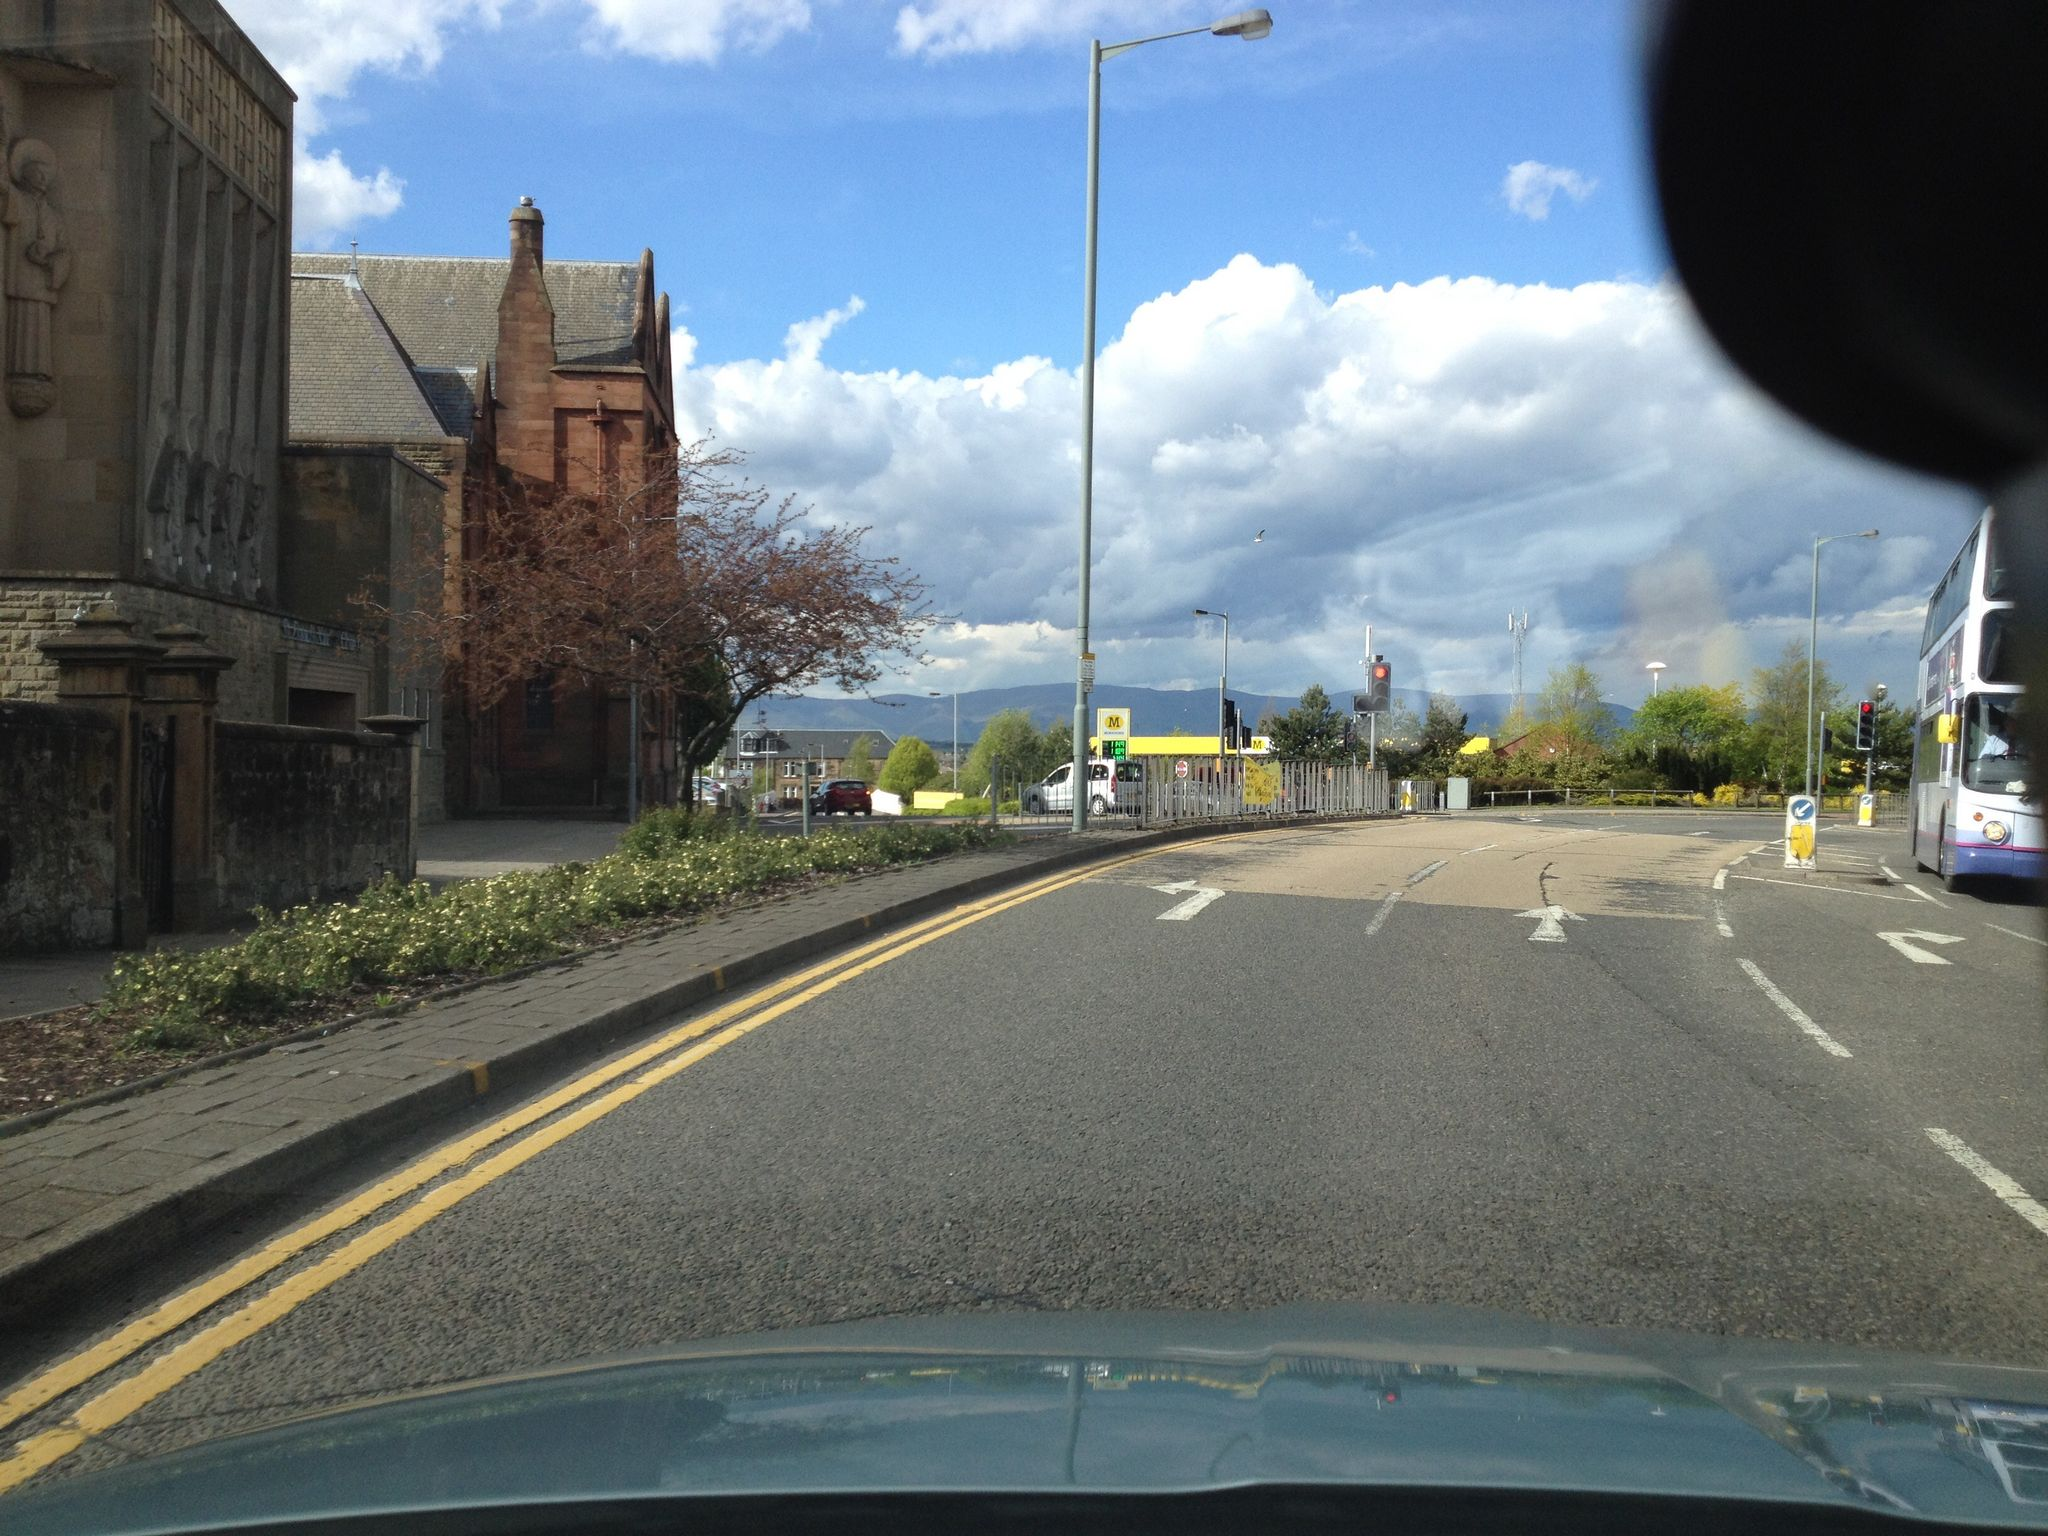bus: (1913, 505, 2046, 887)
car: (1022, 758, 1147, 815), (810, 778, 872, 815)
